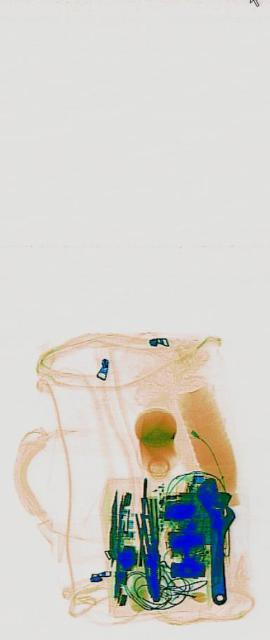Wrench: (194, 470, 237, 610)
